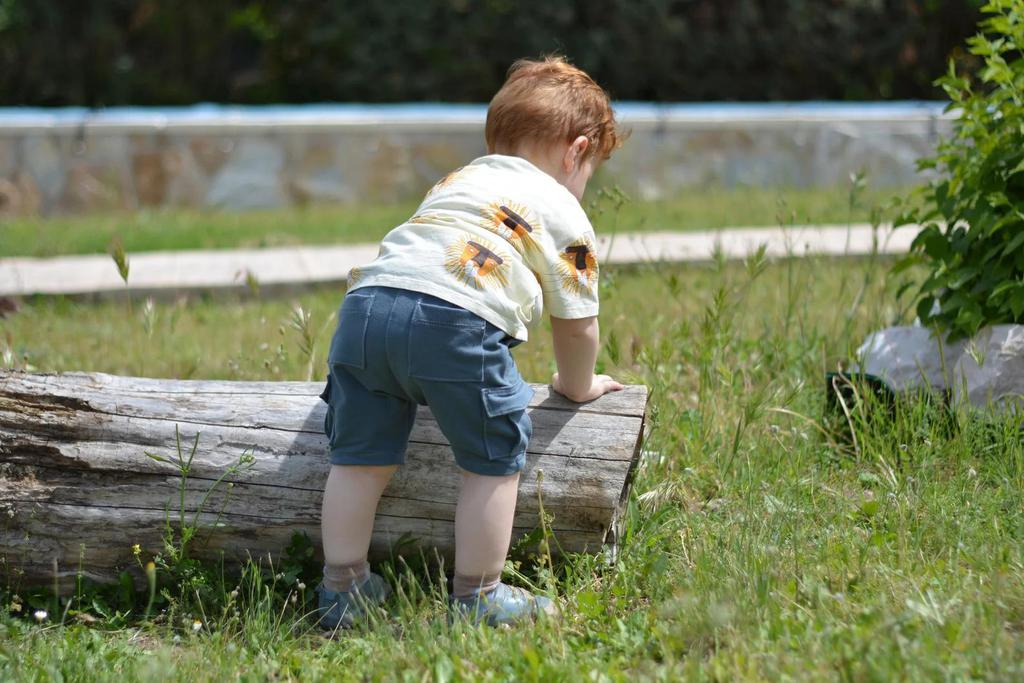child: (297, 41, 640, 642)
